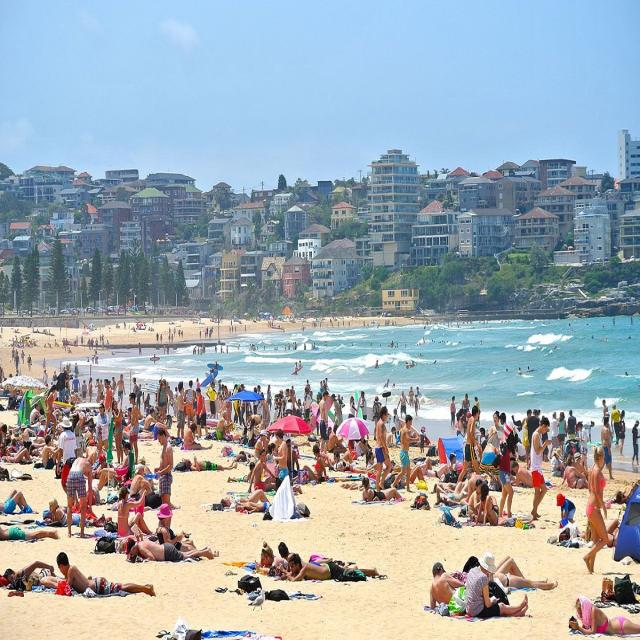body: (0, 302, 639, 398), (219, 398, 622, 550), (153, 427, 323, 640), (0, 398, 156, 518), (56, 551, 158, 599), (464, 550, 529, 621), (155, 502, 220, 560), (582, 445, 608, 576), (567, 594, 639, 636), (283, 552, 381, 582), (529, 416, 554, 521), (389, 413, 420, 493), (454, 404, 483, 488), (125, 537, 214, 564), (65, 456, 93, 539), (271, 427, 303, 496), (429, 560, 467, 617), (498, 421, 520, 519), (116, 486, 155, 540), (93, 440, 132, 492), (276, 540, 333, 574), (473, 482, 514, 528), (2, 560, 59, 592), (44, 496, 99, 528), (488, 566, 558, 591), (56, 417, 78, 495), (374, 406, 392, 494), (247, 448, 277, 496), (0, 520, 61, 542), (253, 540, 287, 577), (360, 476, 406, 503), (560, 455, 594, 490), (597, 416, 615, 482), (220, 488, 273, 508), (302, 444, 328, 484), (183, 454, 238, 472), (493, 553, 527, 582), (512, 459, 544, 489), (110, 400, 124, 466), (129, 462, 152, 502), (436, 480, 469, 507), (128, 392, 140, 466), (24, 571, 66, 592), (183, 422, 213, 451), (43, 384, 58, 442), (96, 402, 110, 463), (176, 379, 190, 438), (466, 478, 484, 523), (576, 420, 591, 472), (521, 408, 533, 472), (216, 409, 240, 441), (318, 389, 329, 457), (194, 387, 208, 440), (365, 449, 387, 482), (41, 434, 60, 470), (327, 422, 348, 454), (227, 461, 256, 484), (488, 409, 505, 448), (556, 491, 576, 524), (526, 408, 540, 452), (466, 467, 484, 501), (184, 380, 196, 430), (285, 438, 299, 480), (419, 461, 451, 479), (252, 429, 268, 461), (156, 378, 167, 424), (610, 404, 622, 446), (153, 414, 171, 442), (114, 373, 127, 411), (630, 418, 640, 466), (573, 451, 589, 481), (371, 395, 383, 434), (234, 500, 273, 512), (258, 398, 272, 431), (557, 411, 567, 457), (549, 410, 560, 450), (550, 447, 564, 478), (143, 406, 158, 434), (396, 390, 410, 419), (56, 366, 67, 402), (208, 380, 218, 419), (618, 409, 626, 457), (566, 409, 578, 441), (542, 415, 550, 463), (386, 426, 402, 450), (331, 393, 342, 426), (29, 402, 42, 426), (358, 390, 368, 421), (166, 384, 175, 415), (142, 382, 151, 413), (392, 407, 400, 441), (337, 393, 346, 423), (94, 377, 103, 404), (348, 396, 358, 420), (132, 377, 140, 406), (580, 423, 591, 444), (449, 395, 456, 428), (474, 396, 481, 428), (601, 399, 610, 423), (80, 378, 88, 405), (412, 393, 420, 418), (462, 392, 471, 413), (266, 384, 273, 411), (498, 411, 507, 431), (72, 374, 81, 394), (136, 382, 142, 410), (99, 378, 106, 402), (419, 428, 425, 453), (408, 385, 414, 410), (88, 376, 93, 404), (415, 385, 420, 409), (42, 369, 48, 386), (293, 361, 299, 377), (172, 386, 179, 399), (74, 362, 79, 378), (41, 356, 46, 372), (111, 376, 117, 389), (450, 454, 456, 466), (52, 369, 58, 381), (298, 360, 303, 374), (196, 377, 200, 389)
